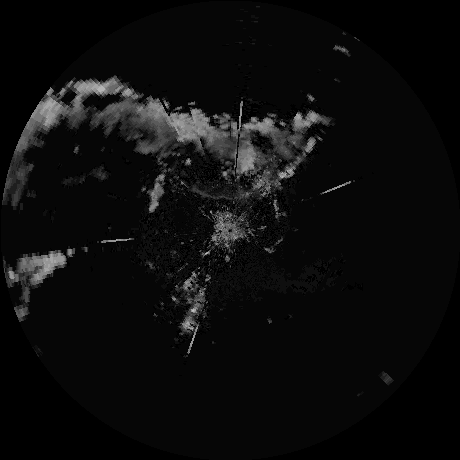frontgust: (185, 180, 250, 202)
